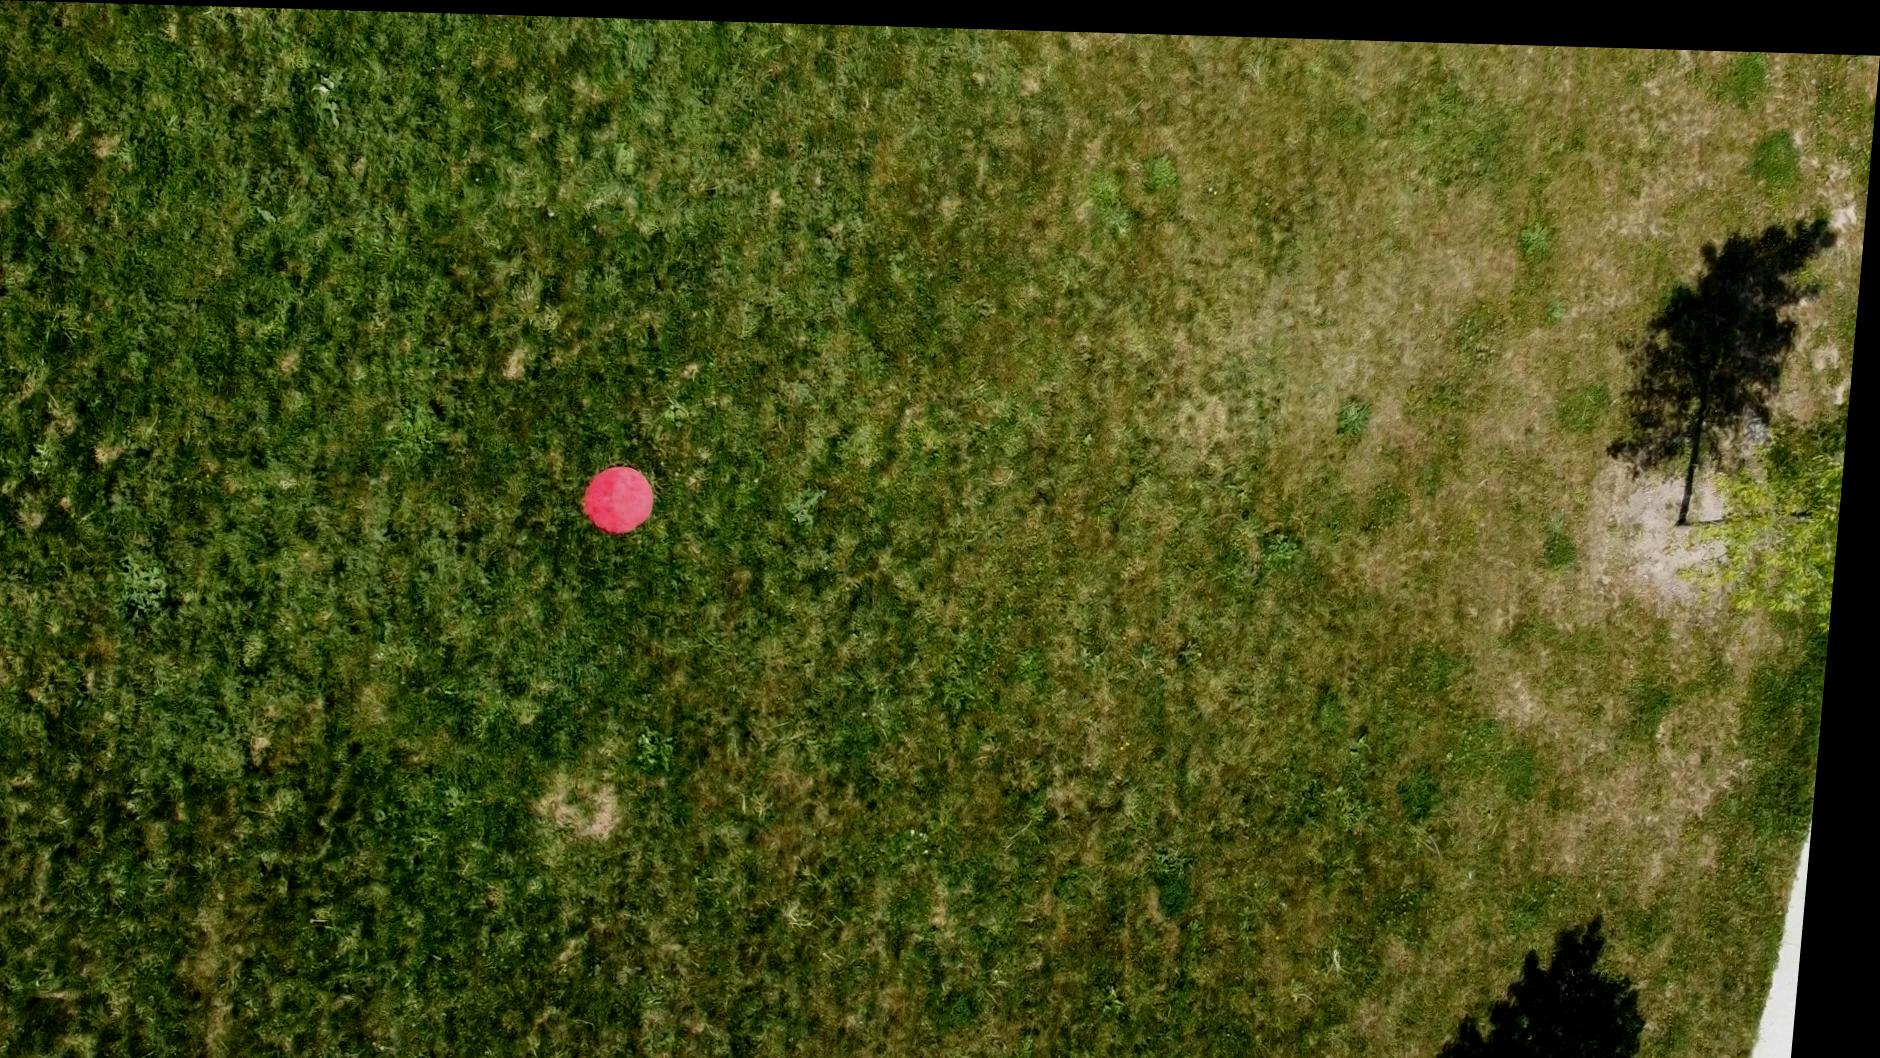Red: (584, 457, 668, 534)
